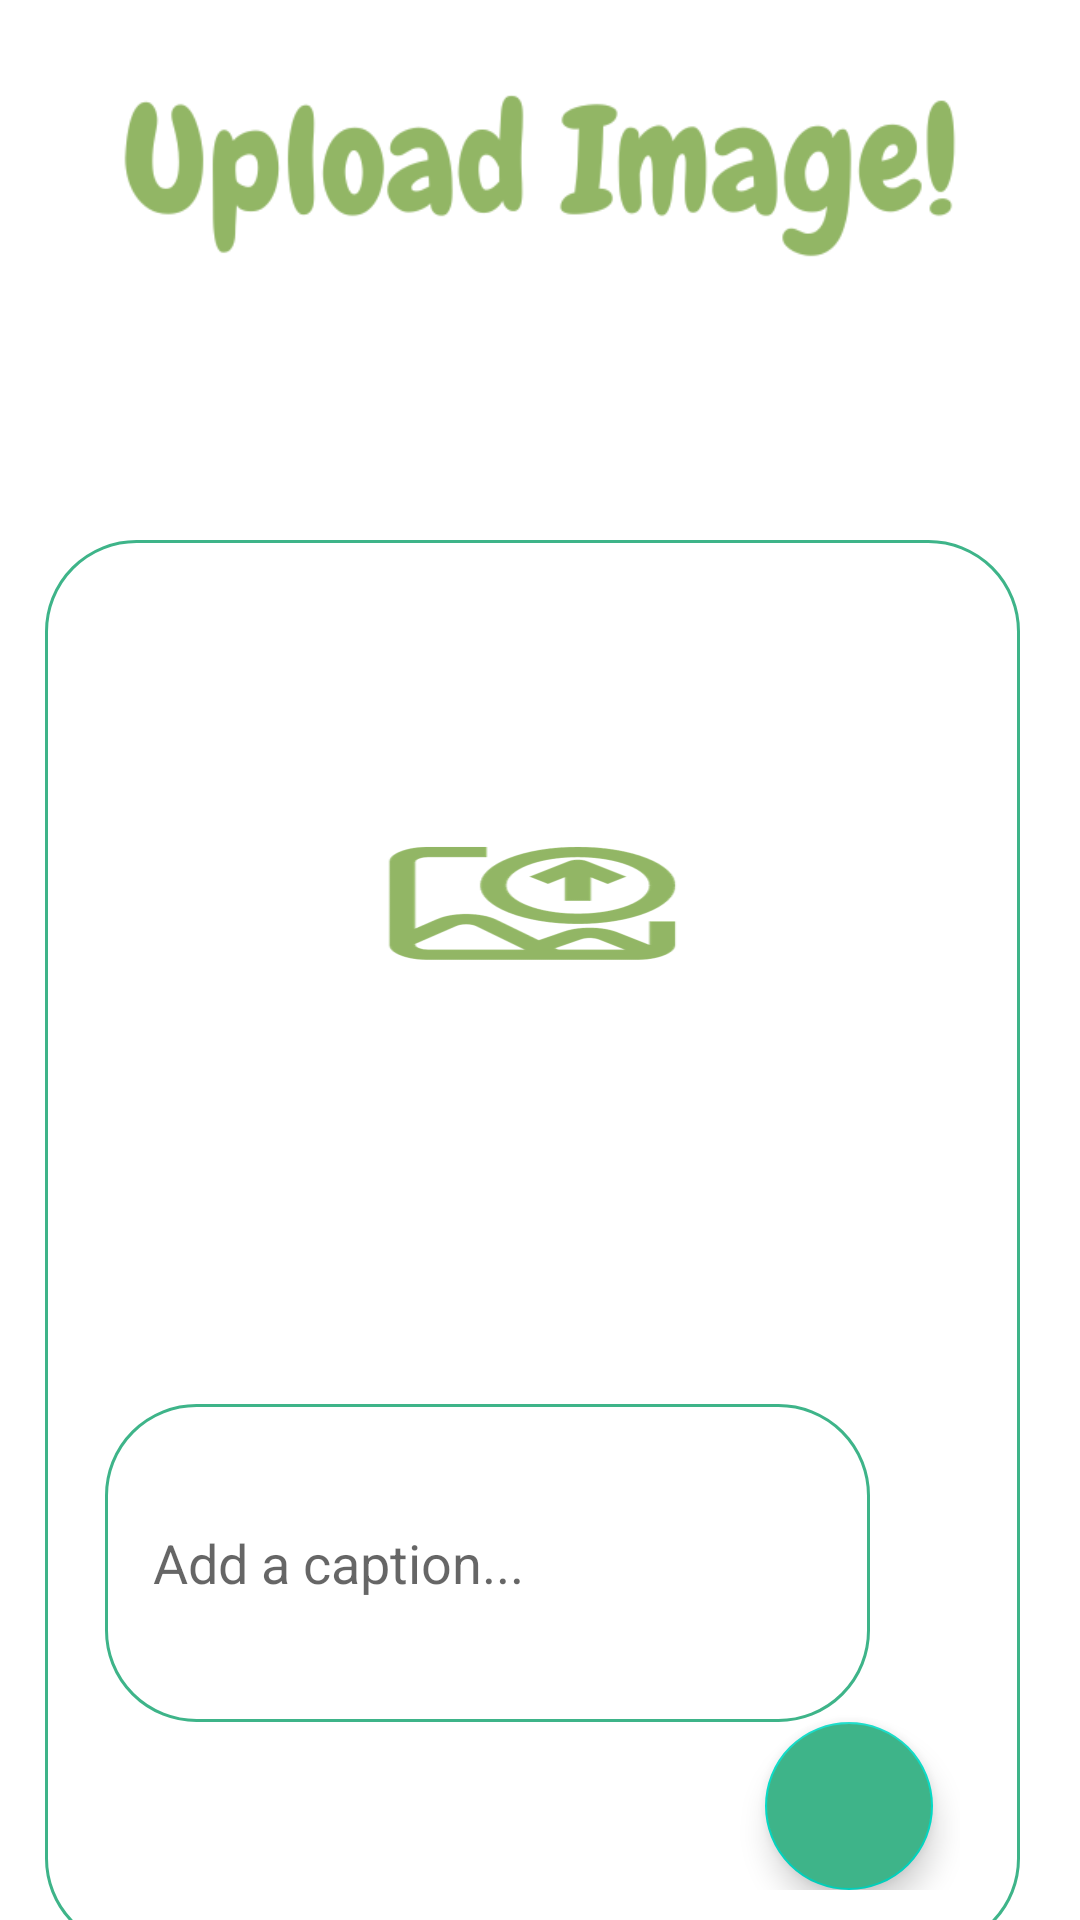

Named icons in this screenshot (1080x1920) and their centers, point (x, y):
uploadimage: point (532, 903)
